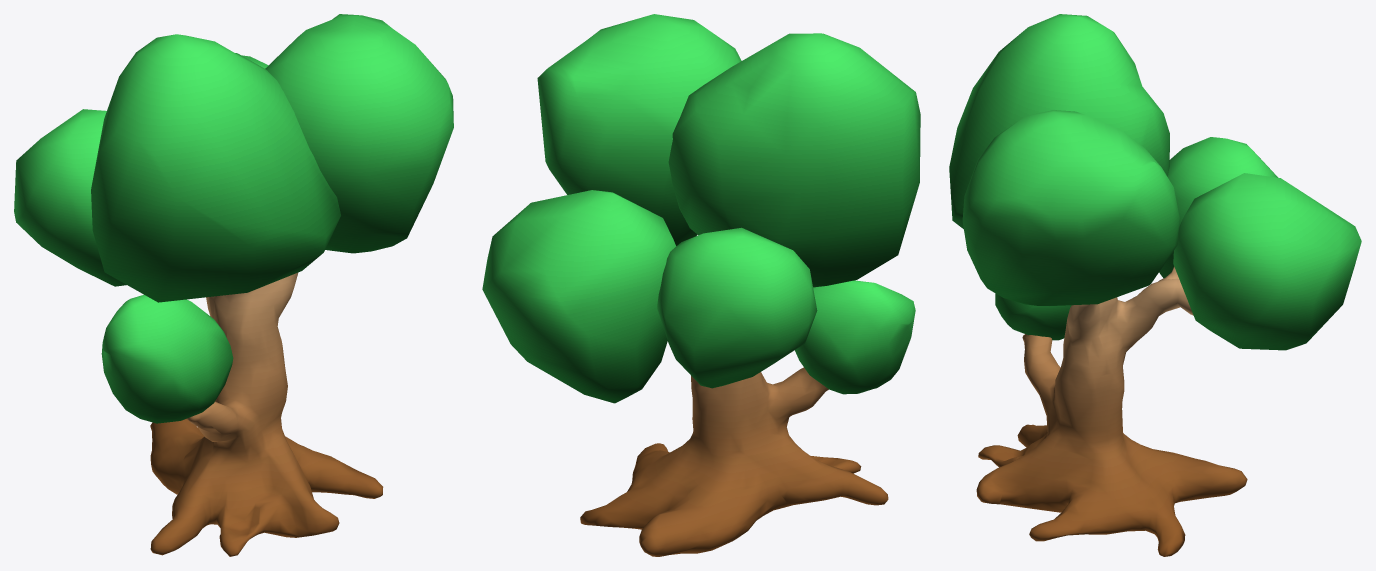
File: Tree3 B1G1.fbx
The picture shows the model from 3 angles, left to right: view 1: azimuth 30°, elevation 25°; view 2: azimuth 150°, elevation 25°; view 3: azimuth 270°, elevation 25°; orthographic projection. The views are drawn at different scales.
Visible parts, largest first — view 1: Tree3 Leaves.002, Tree3 B1, Tree3 Leaves.006, Tree3 Leaves.005, Tree3 Leaves.003; view 2: Tree3 Leaves.002, Tree3 Leaves.004, Tree3 B1, Tree3 Leaves.006, Tree3 Leaves.003, Tree3 Leaves.005; view 3: Tree3 Leaves.006, Tree3 B1, Tree3 Leaves.004, Tree3 Leaves.002, Tree3 Leaves.003, Tree3 Leaves.005.
Part boxes in pixels (x1,y1,x2,y2): Tree3 Leaves.002: (91, 34, 340, 302); Tree3 B1: (150, 272, 383, 556); Tree3 Leaves.006: (265, 14, 453, 253); Tree3 Leaves.005: (101, 295, 233, 423); Tree3 Leaves.003: (14, 109, 126, 286); Tree3 Leaves.002: (668, 33, 920, 287); Tree3 Leaves.004: (482, 190, 676, 403); Tree3 B1: (580, 367, 888, 556); Tree3 Leaves.006: (537, 14, 741, 245); Tree3 Leaves.003: (657, 227, 817, 388); Tree3 Leaves.005: (795, 280, 915, 394); Tree3 Leaves.006: (962, 110, 1179, 305); Tree3 B1: (976, 266, 1247, 556); Tree3 Leaves.004: (1173, 173, 1361, 350); Tree3 Leaves.002: (949, 14, 1169, 229); Tree3 Leaves.003: (1159, 137, 1277, 278); Tree3 Leaves.005: (995, 293, 1071, 340).
Bounding box in the file's own units: 19.6 × 22.2 × 27.21.
